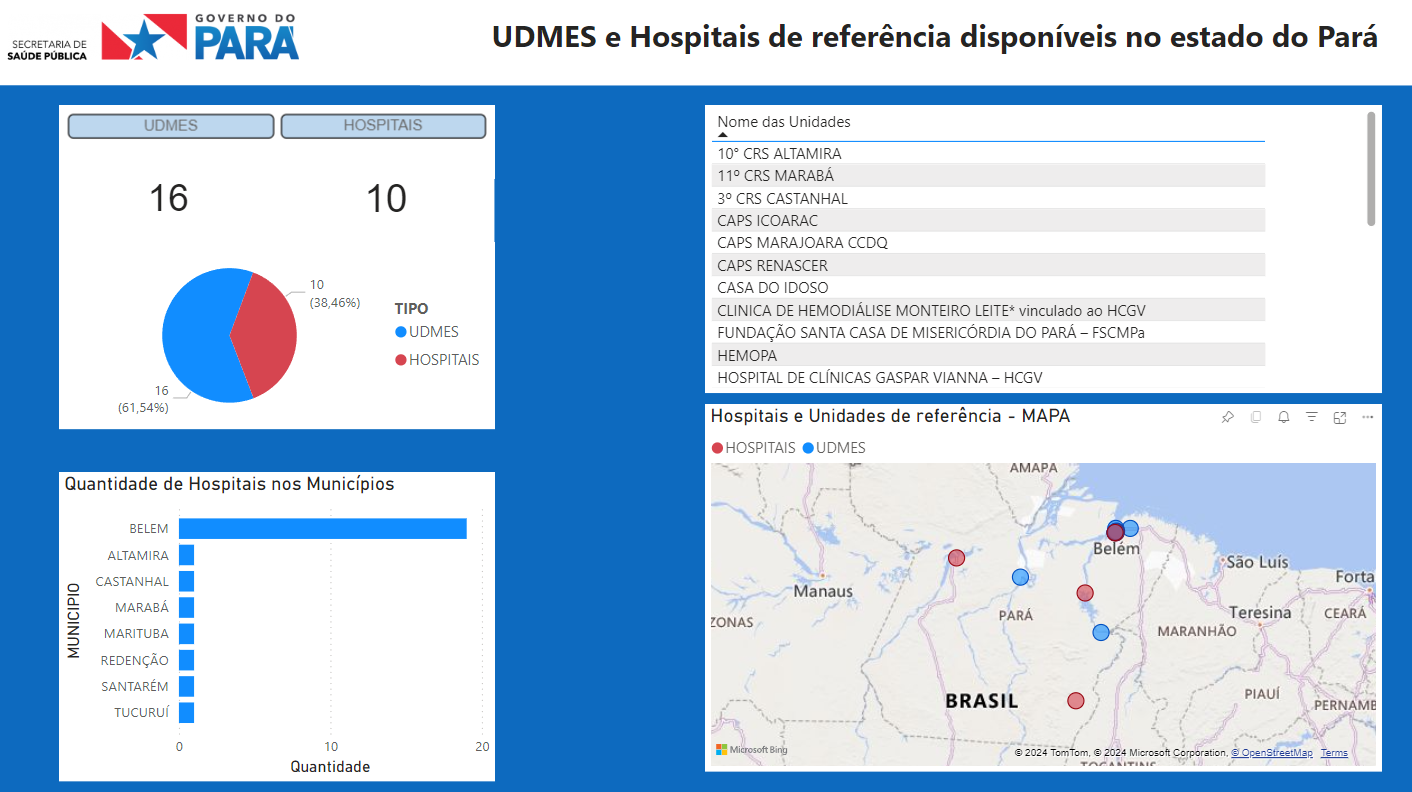

What the dashboard file says about the page in this screenshot:
{"tool":"powerbi","page":{"name":"Página 1","canvas":[1280,720],"ordinal":0},"visuals":[{"type":"shape","box":[0,71.8,1280.4,648.2],"z":0},{"type":"map","title":"Hospitais e Unidades de referência - MAPA","fields":{"Category":["saudePAatualizado.ENDEREÇO"],"Size":["saudePAatualizado.MUNICIPIO"],"Series":["saudePAatualizado.TIPO"]},"box":[636.7,369.8,603.8,328.1],"z":1000},{"type":"pieChart","fields":{"Y":["saudePAatualizado.MUNICIPIO"],"Category":["saudePAatualizado.TIPO"]},"box":[60.3,225.2,389.3,166.7],"z":2000},{"type":"clusteredBarChart","title":"Quantidade de Hospitais nos Municípios","fields":{"Category":["saudePAatualizado.MUNICIPIO"],"Y":["saudePAatualizado.TIPO"]},"box":[60.3,430,389.3,275.8],"z":3000},{"type":"ChicletSlicer1448559807354","fields":{"Category":["saudePAatualizado.TIPO"],"Values":["saudePAatualizado.MUNICIPIO"]},"box":[60.3,102.9,389.3,65.6],"z":4000},{"type":"actionButton","box":[0,0,100,40],"z":5000},{"type":"shape","box":[0,0,1280.4,85.1],"z":6000},{"type":"image","box":[9.8,5.3,269.6,73.6],"z":7000},{"type":"tableEx","fields":{"Values":["saudePAatualizado. NOME"]},"box":[636.7,102.9,603.8,257.1],"z":8000},{"type":"card","fields":{"Values":["saudePAatualizado"]},"box":[60.3,143.6,195.1,81.6],"z":9000},{"type":"card","fields":{"Values":["saudePAatualizado"]},"box":[255.4,143.6,194.2,81.6],"z":10000},{"type":"textbox","box":[383.1,0,897.3,85.1],"z":11000}]}

Visuals, with their boxes in screenshot pixels (x1, y1, x2, y2), scaled from the page's 1280x720 canvas onto the 1412x792 screenshot:
shape: <region>0, 79, 1411, 791</region>
"Hospitais e Unidades de referência - MAPA" map: <region>702, 407, 1368, 768</region>
pieChart - saudePAatualizado.MUNICIPIO x saudePAatualizado.TIPO: <region>67, 248, 496, 431</region>
"Quantidade de Hospitais nos Municípios" clusteredBarChart: <region>67, 473, 496, 776</region>
ChicletSlicer1448559807354 - saudePAatualizado.TIPO x saudePAatualizado.MUNICIPIO: <region>67, 113, 496, 185</region>
actionButton: <region>0, 0, 110, 44</region>
shape: <region>0, 0, 1411, 94</region>
image: <region>11, 6, 308, 87</region>
tableEx - saudePAatualizado. NOME: <region>702, 113, 1368, 396</region>
card - saudePAatualizado: <region>67, 158, 282, 248</region>
card - saudePAatualizado: <region>282, 158, 496, 248</region>
textbox: <region>423, 0, 1411, 94</region>
